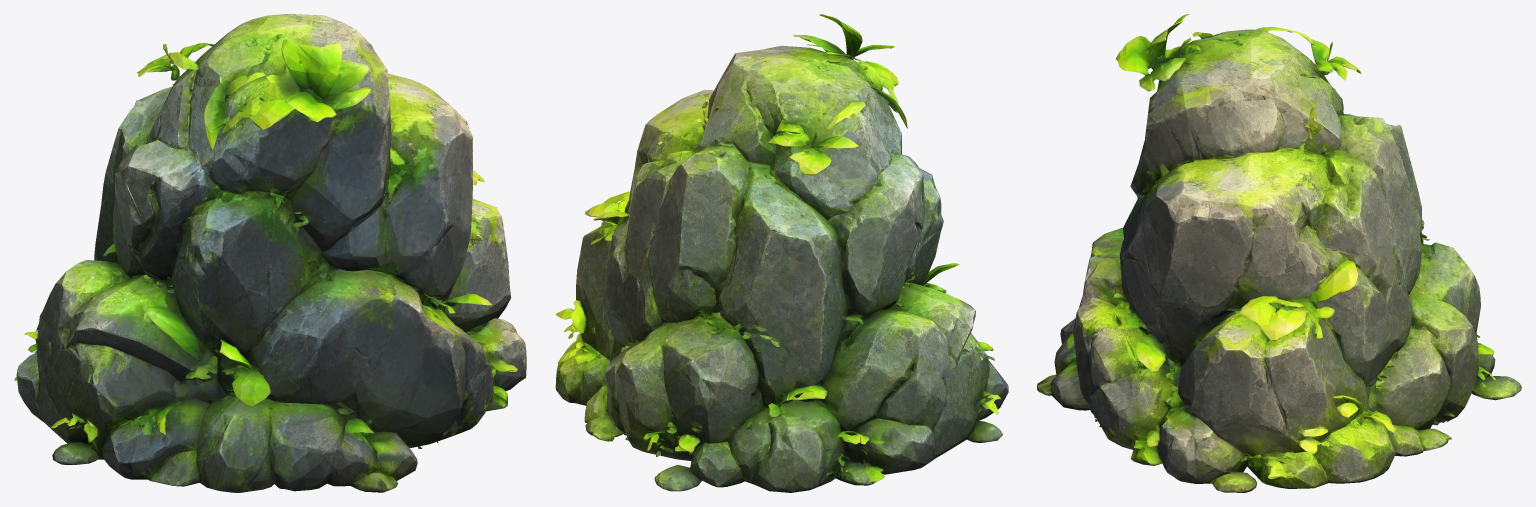
The model's file is props.glb.
3 renders of one model, left to right at view 1: azimuth 30°, elevation 25°; view 2: azimuth 150°, elevation 25°; view 3: azimuth 270°, elevation 25°, orthographic. The views are drawn at different scales.
Visible parts, largest first — view 1: rockpile; view 2: rockpile; view 3: rockpile.
Part boxes in pixels (bbox=[...]): rockpile: bbox=[14, 14, 526, 492]; rockpile: bbox=[555, 14, 1008, 492]; rockpile: bbox=[1037, 14, 1521, 492].
Size of the model in its own units: 0.9987 by 0.836 by 0.987.
Materials: 2 (2 with a texture image).
